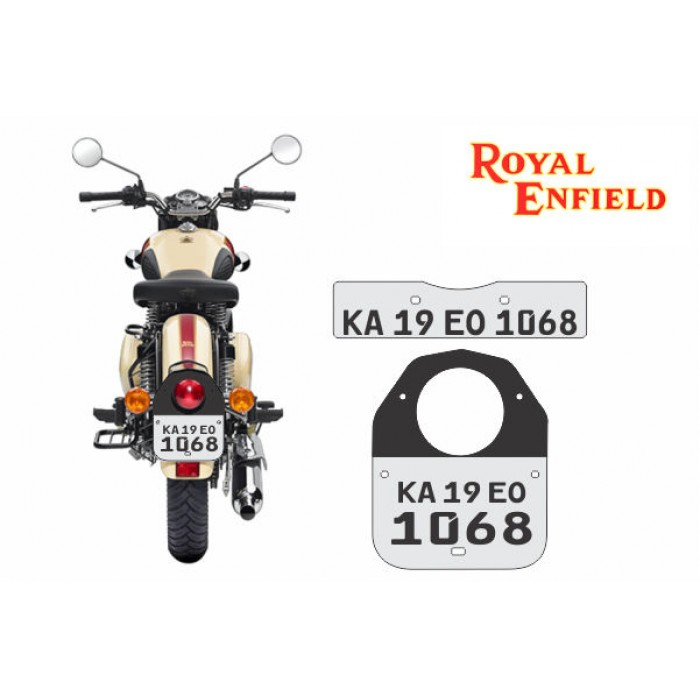number_plate: (150, 411, 228, 465)
